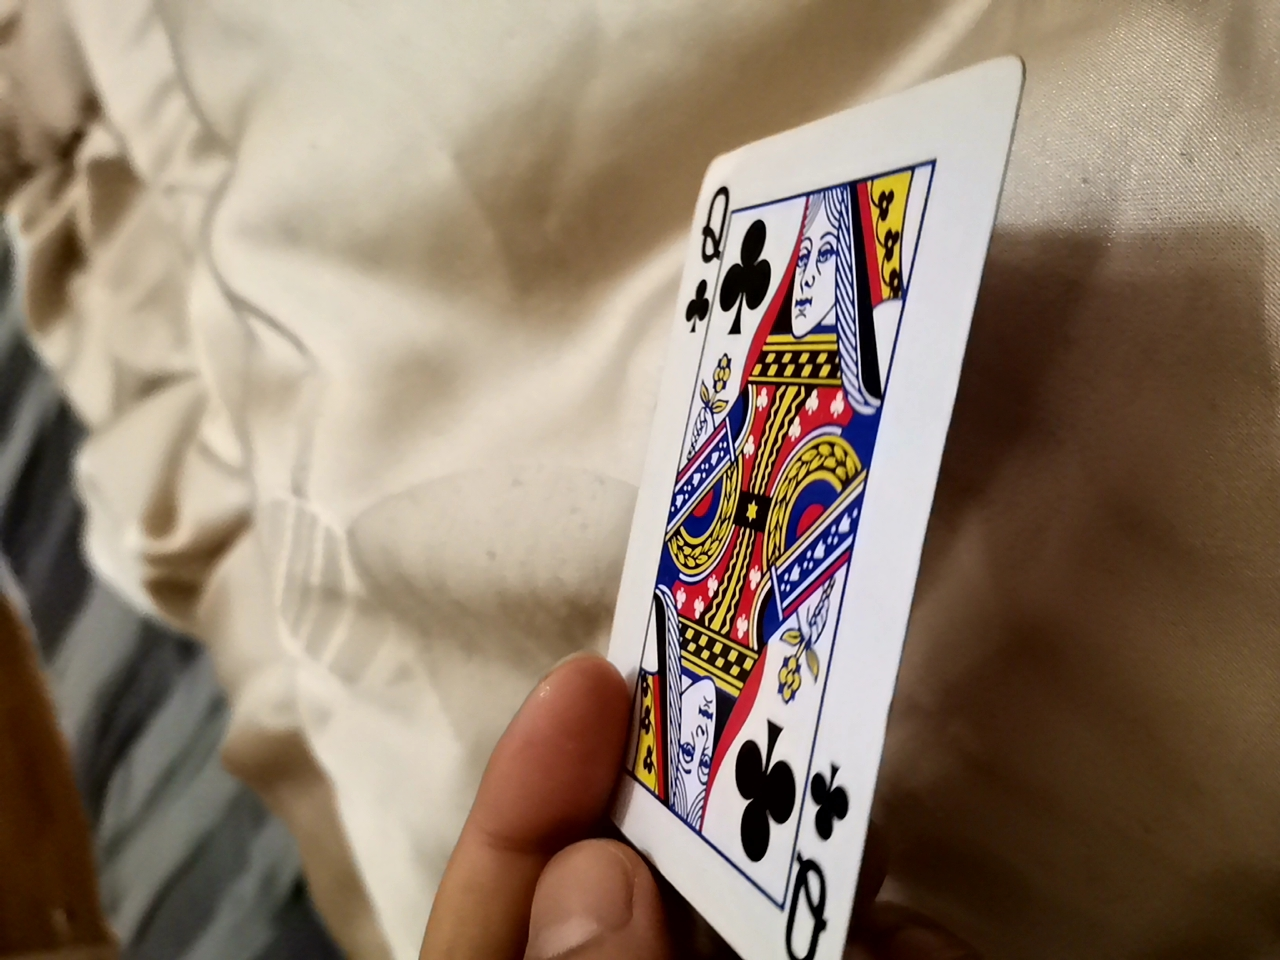mh q: (528, 62, 1037, 932)
